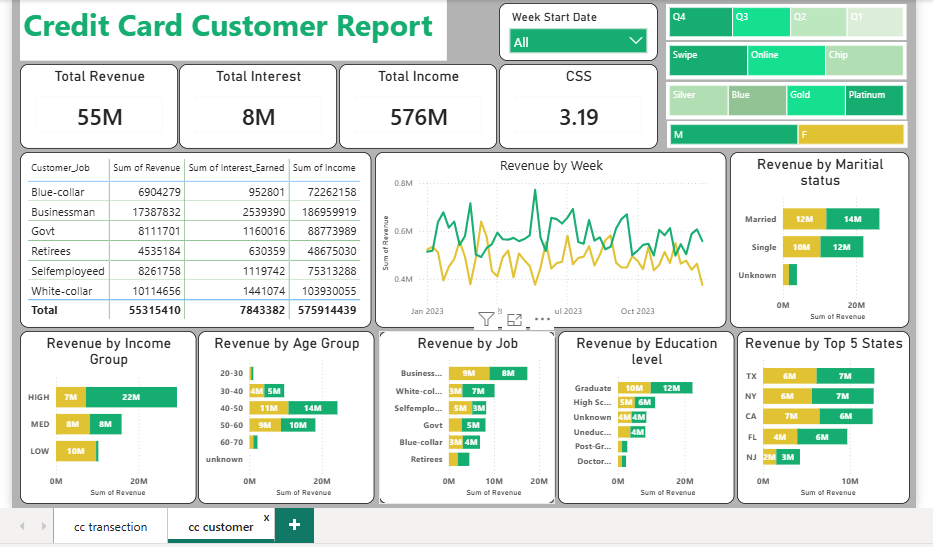

The page's visual inventory and layout, read from the dashboard file:
{"tool":"powerbi","page":{"name":"cc customer","canvas":[1280,720],"ordinal":2},"visuals":[{"type":"textbox","box":[11.3,0,605.2,86.5],"z":0},{"type":"barChart","title":"Revenue by Income Group","fields":{"Y":["Sum(credit_card.Revenue)"],"Category":["customer details.IncomeGroup"],"Series":["customer details.Gender"]},"box":[10.8,469.2,250,244.6],"z":1000},{"type":"tableEx","fields":{"Values":["customer details.Customer_Job","Sum(credit_card.Revenue)","Sum(credit_card.Interest_Earned)","Sum(customer details.Income)"]},"box":[10.8,215.4,498.5,249.2],"z":2000},{"type":"cardVisual","title":"Total Revenue","fields":{"Data":["Sum(credit_card.Revenue)"]},"box":[10.8,90.8,224,120],"z":3000},{"type":"cardVisual","title":"Total Interest","fields":{"Data":["Sum(credit_card.Interest_Earned)"]},"box":[236.9,90.8,224,120],"z":4000},{"type":"cardVisual","title":"Total Income","fields":{"Data":["Sum(customer details.Income)"]},"box":[463.1,90.8,224,120],"z":5000},{"type":"cardVisual","title":"CSS","fields":{"Data":["Avg(customer details.Cust_Satisfaction_Score)"]},"box":[690.8,90.8,224.6,120],"z":6000},{"type":"slicer","fields":{"Values":["credit_card.Week_Start_Date"]},"box":[690.8,4,224.6,81.5],"z":7000},{"type":"treemap","fields":{"Group":["credit_card.Qtr"],"Values":["Avg(customer details.Client_Num)"]},"box":[927.1,6,341.4,51.4],"z":8000},{"type":"treemap","fields":{"Values":["Avg(customer details.Client_Num)"],"Group":["credit_card.Card_Category"]},"box":[927.1,116,341.4,52.9],"z":9000},{"type":"lineChart","title":" Revenue by Week","fields":{"Y":["Sum(credit_card.Revenue)"],"Series":["customer details.Gender"],"Category":["credit_card.Week_Start_Date.Variation.Date Hierarchy.Year","credit_card.Week_Start_Date.Variation.Date Hierarchy.Month","credit_card.Week_Start_Date.Variation.Date Hierarchy.Day"]},"box":[514,215,498,249],"z":10000},{"type":"treemap","fields":{"Group":["customer details.Gender"],"Values":["Sum(credit_card.Revenue)"]},"box":[927.7,171,341,38],"z":11000},{"type":"barChart","title":"Revenue by Age Group","fields":{"Y":["Sum(credit_card.Revenue)"],"Category":["customer details.AgeGroup"],"Series":["customer details.Gender"]},"box":[264,469,250,244.6],"z":12000},{"type":"barChart","title":"Revenue by Job","fields":{"Y":["Sum(credit_card.Revenue)"],"Category":["customer details.Customer_Job"],"Series":["customer details.Gender"]},"box":[520,469.2,250,244.6],"z":13000},{"type":"barChart","title":"Revenue by Top 5 States","fields":{"Y":["Sum(credit_card.Revenue)"],"Category":["customer details.state_cd"],"Series":["customer details.Gender"]},"box":[1027.7,469.2,244.6,244.6],"z":14000},{"type":"barChart","title":"Revenue by Education level","fields":{"Y":["Sum(credit_card.Revenue)"],"Category":["customer details.Education_Level"],"Series":["customer details.Gender"]},"box":[773.8,469.2,250,244.6],"z":15000},{"type":"barChart","title":"Revenue by Maritial status","fields":{"Y":["Sum(credit_card.Revenue)"],"Category":["customer details.Marital_Status"],"Series":["customer details.Gender"]},"box":[1018,215.4,253.8,249.2],"z":16000},{"type":"treemap","fields":{"Values":["Avg(customer details.Client_Num)"],"Group":["credit_card.Use Chip"]},"box":[927.1,60,341.4,52.9],"z":17000}]}

Visuals, with their boxes in screenshot pixels (x1, y1, x2, y2):
textbox: 11,0,446,55
"Revenue by Income Group" barChart: 10,330,190,506
tableEx - customer details.Customer_Job x Sum(credit_card.Revenue): 10,148,369,327
"Total Revenue" cardVisual: 10,58,171,144
"Total Interest" cardVisual: 173,58,334,144
"Total Income" cardVisual: 335,58,496,144
"CSS" cardVisual: 499,58,660,144
slicer - credit_card.Week_Start_Date: 499,0,660,54
treemap - credit_card.Qtr x Avg(customer details.Client_Num): 669,0,914,34
treemap - Avg(customer details.Client_Num) x credit_card.Card_Category: 669,76,914,114
" Revenue by Week" lineChart: 372,147,730,326
treemap - customer details.Gender x Sum(credit_card.Revenue): 669,116,914,143
"Revenue by Age Group" barChart: 192,330,372,506
"Revenue by Job" barChart: 376,330,556,506
"Revenue by Top 5 States" barChart: 741,330,917,506
"Revenue by Education level" barChart: 559,330,738,506
"Revenue by Maritial status" barChart: 734,148,917,327
treemap - Avg(customer details.Client_Num) x credit_card.Use Chip: 669,36,914,74
